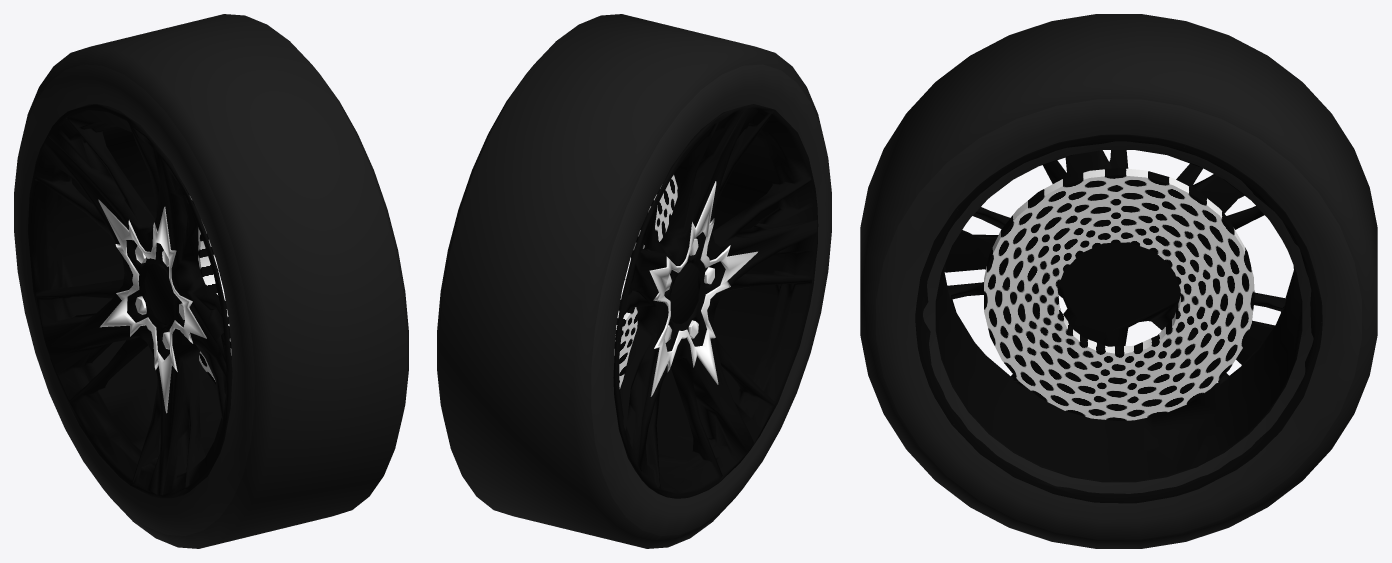
3 views of the same model, side by side, from view 1: azimuth 30°, elevation 25°; view 2: azimuth 150°, elevation 25°; view 3: azimuth 270°, elevation 25° (orthographic).
Visible parts, largest first — view 1: object 3, WheelRearRRim, WheelRearRBrakeDisc; view 2: object 3, WheelRearRRim, WheelRearRBrakeDisc; view 3: object 3, WheelRearRRim, WheelRearRBrakeDisc.
Boxes of the visible parts, x1,y1,x2,y2 form: object 3: (14,14,408,548); WheelRearRRim: (28,104,232,498); WheelRearRBrakeDisc: (189,195,231,384); object 3: (437,14,831,548); WheelRearRRim: (613,104,818,498); WheelRearRBrakeDisc: (614,175,678,388); object 3: (860,14,1377,548); WheelRearRRim: (915,134,1322,503); WheelRearRBrakeDisc: (984,168,1254,420).
Bounding box in the file's own units: 0.2849 × 0.7651 × 0.7651.
5 materials, 1 textured.
